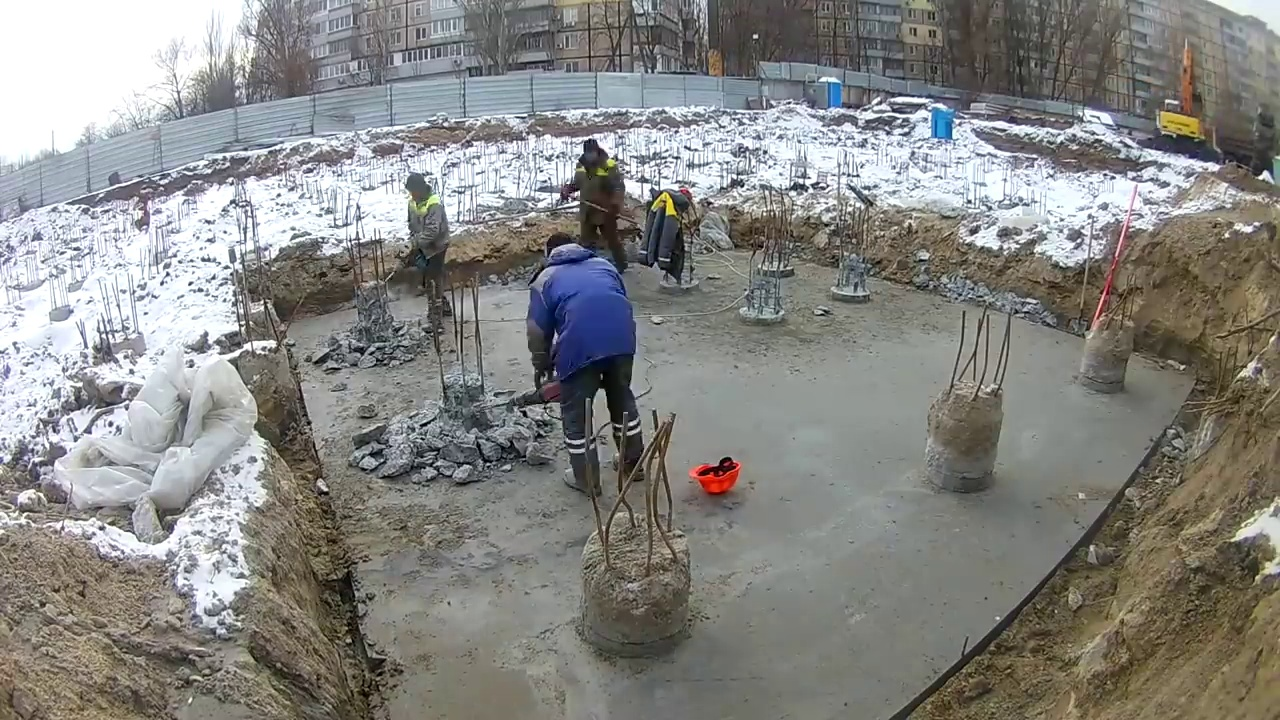helmet: (688, 457, 740, 496)
helmet-off: (541, 234, 589, 266), (402, 175, 433, 209), (579, 138, 608, 171)
person: (527, 234, 647, 501), (398, 176, 458, 336), (562, 136, 627, 265)
